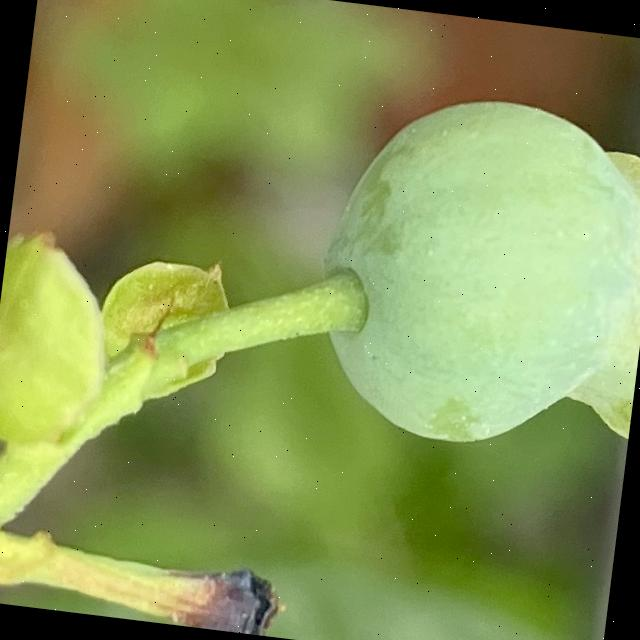Blueberries: (303, 75, 640, 464)
